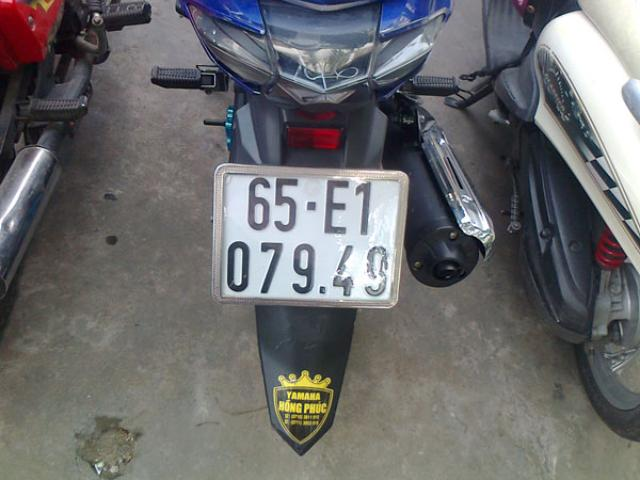plate: (216, 163, 402, 308)
